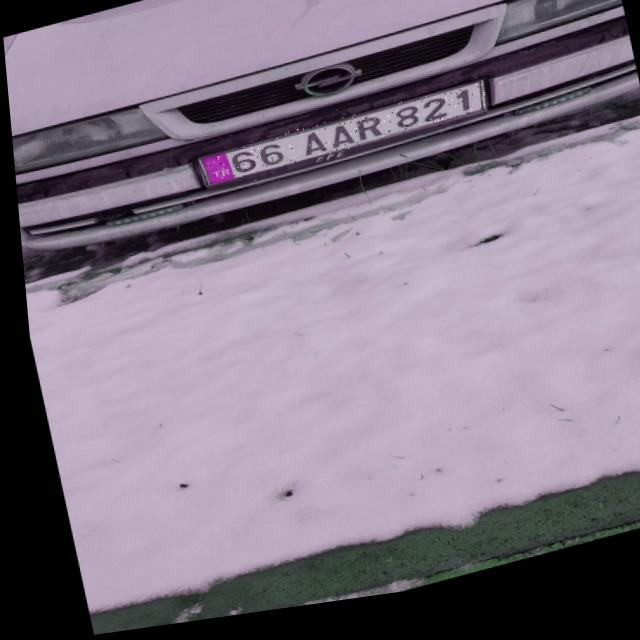license_plate: (191, 93, 489, 192)
